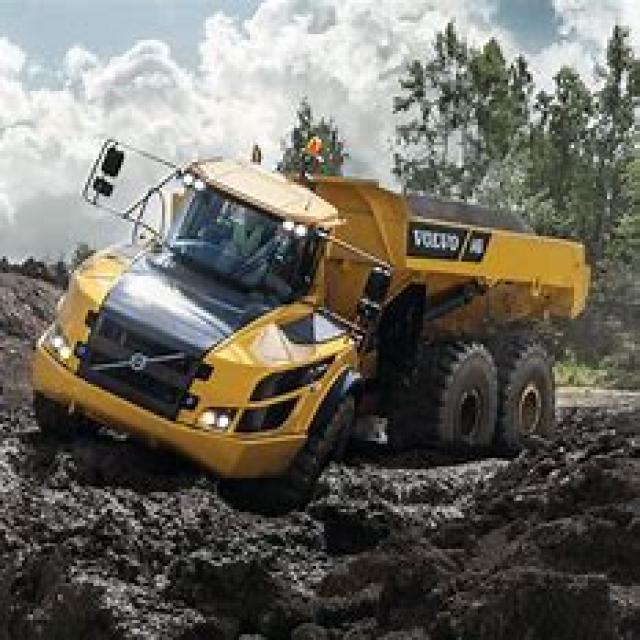dump_truck: (19, 105, 618, 498)
